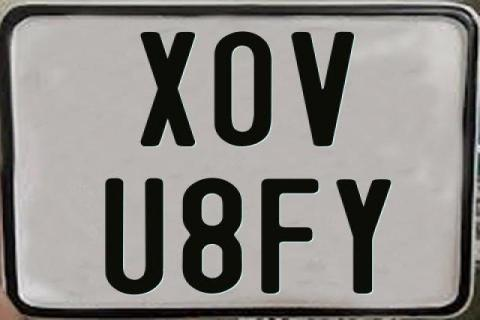0: (182, 176, 248, 294), (211, 32, 272, 150)
F: (260, 177, 320, 295)
U: (103, 177, 162, 297)
V: (291, 31, 356, 149)
X: (138, 30, 198, 146)
Y: (336, 179, 392, 295)
